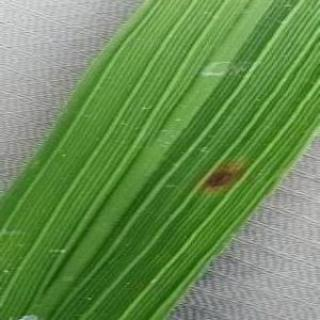bercak-Cokelat: (202, 150, 241, 203)
